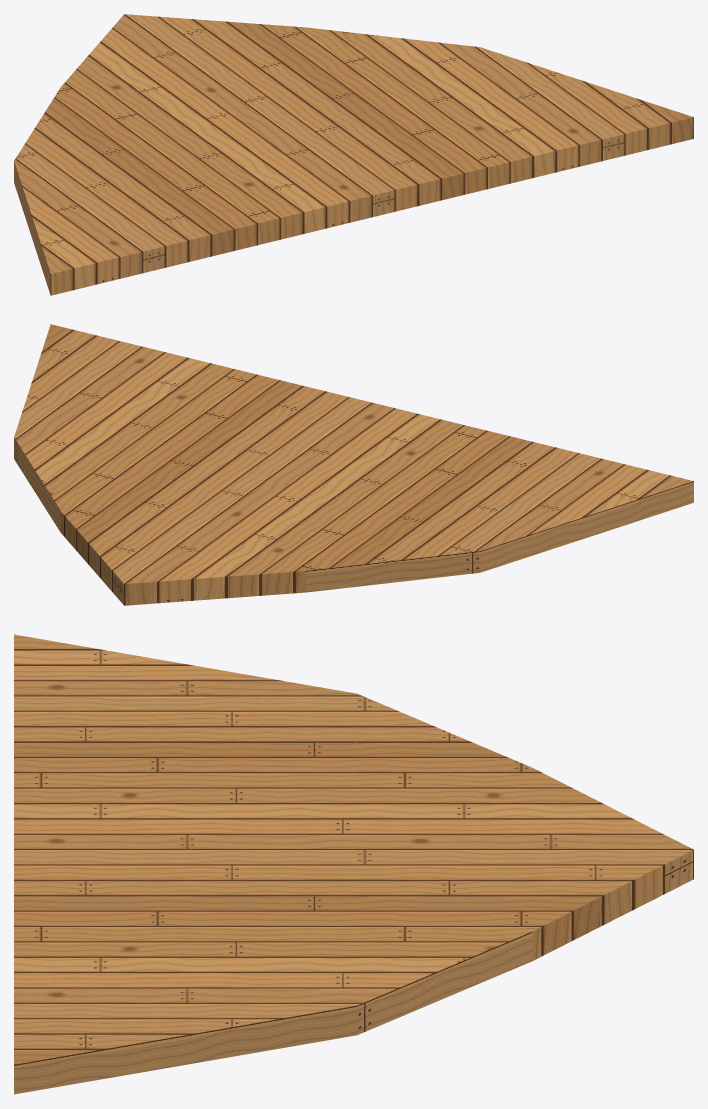
File: FLOOR_BOW.glb
3 views of the same model, one above another, from view 1: azimuth 30°, elevation 25°; view 2: azimuth 150°, elevation 25°; view 3: azimuth 270°, elevation 25° (orthographic). The views are drawn at different scales.
Visible parts, largest first — view 1: FLOOR_BOW; view 2: FLOOR_BOW; view 3: FLOOR_BOW.
Boxes of the visible parts, x1=… form: FLOOR_BOW: x1=14, y1=14, x2=693, y2=295; FLOOR_BOW: x1=14, y1=324, x2=693, y2=605; FLOOR_BOW: x1=14, y1=634, x2=693, y2=1094.
Bounding box in the file's own units: 5.6 × 0.18 × 3.74.
1 material, 1 textured.
